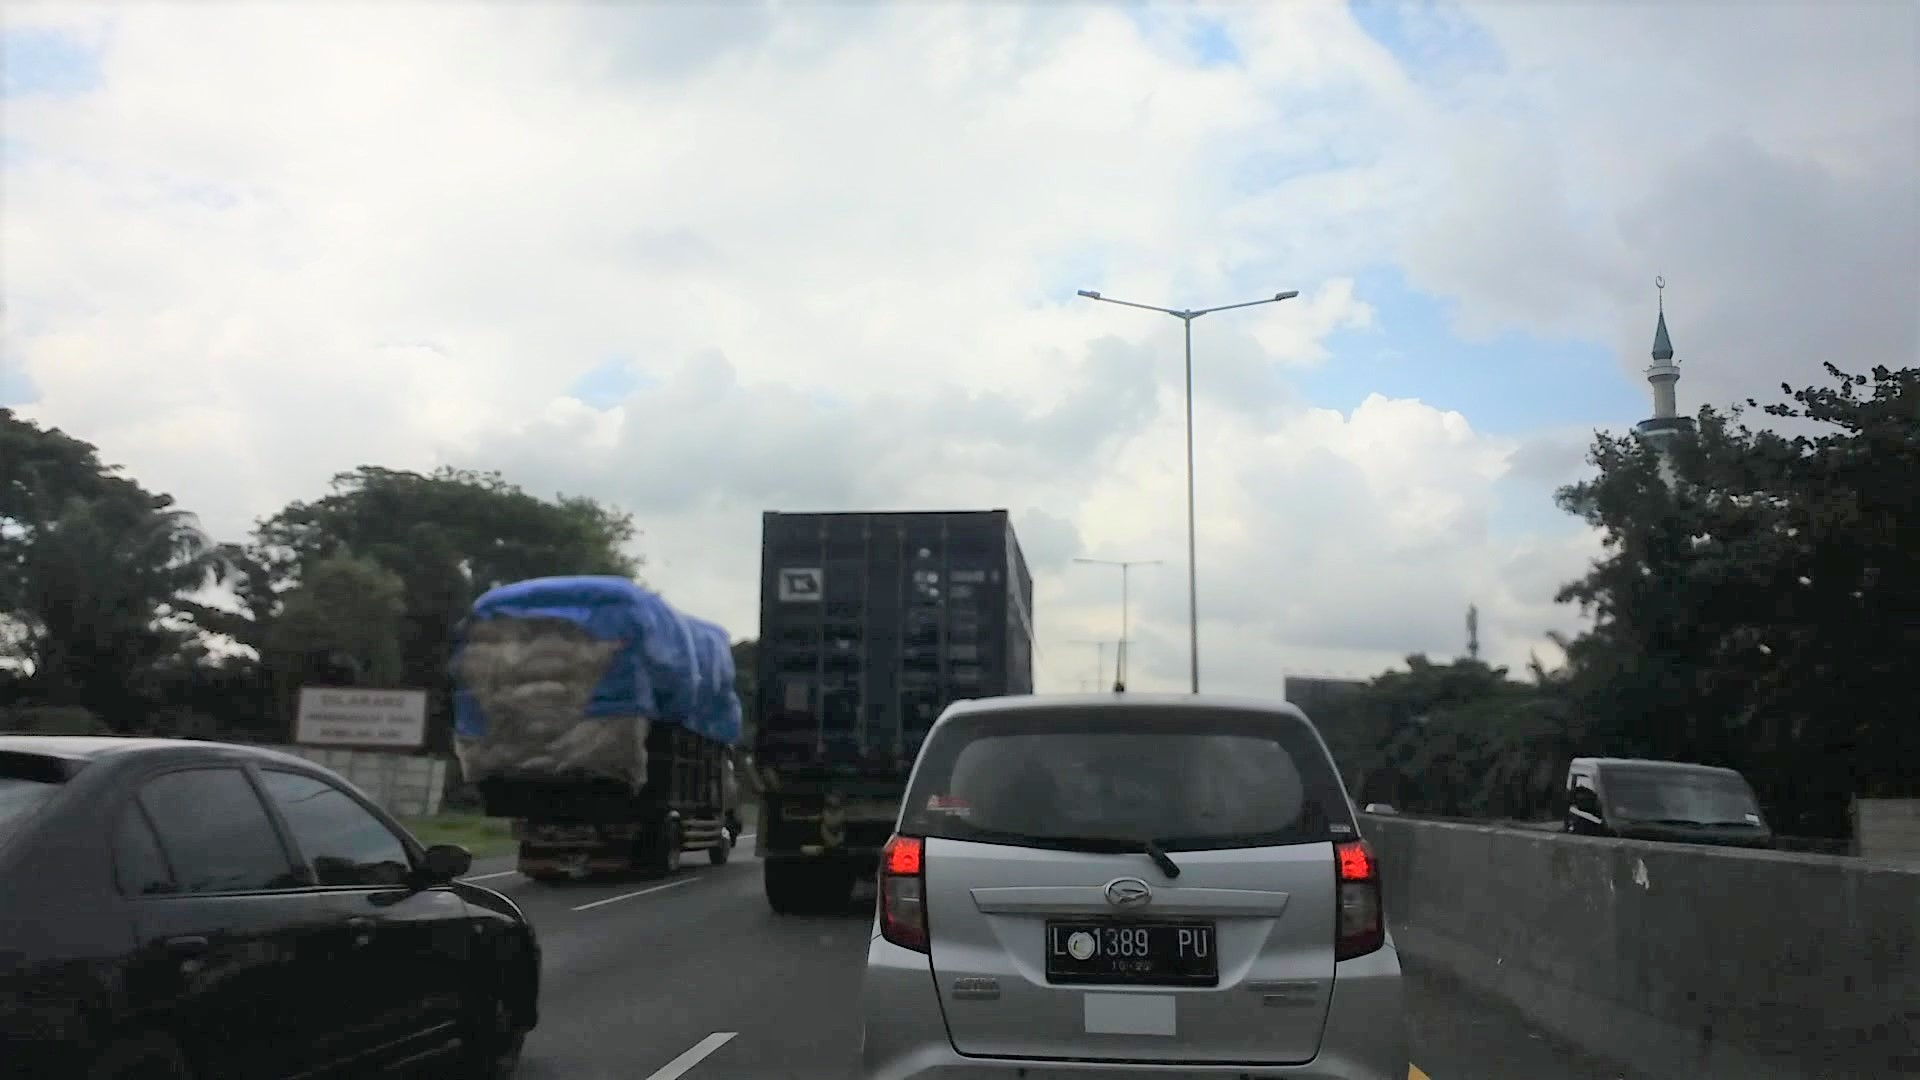plate_positive: (1044, 919, 1218, 986)
